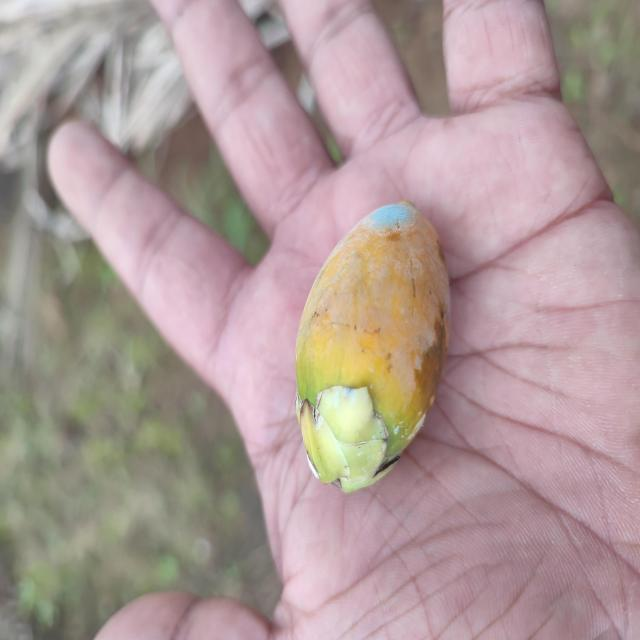good: (293, 202, 450, 497)
